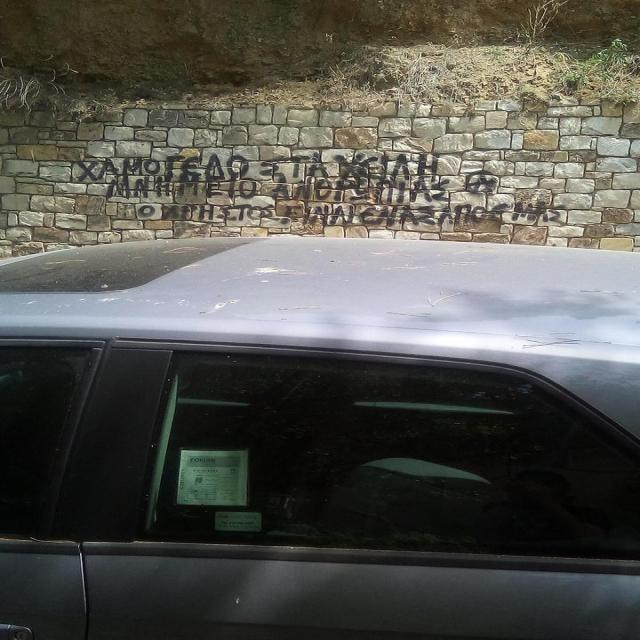nonspitting: (78, 153, 565, 225)
